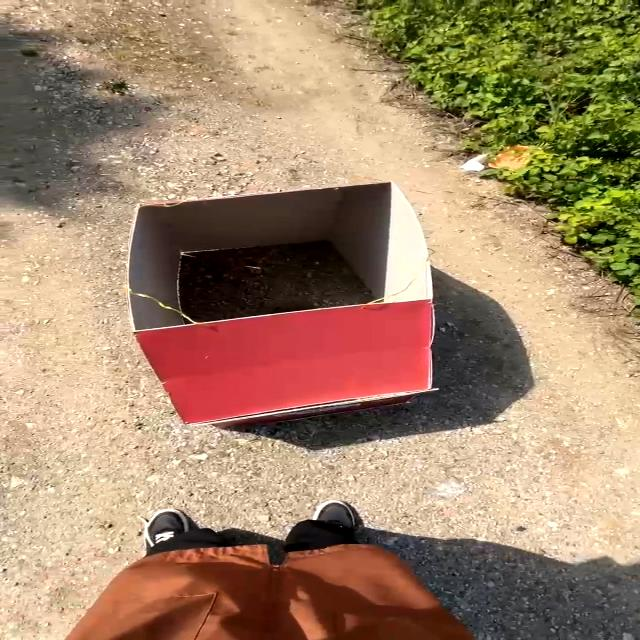red_car: (84, 170, 470, 430)
